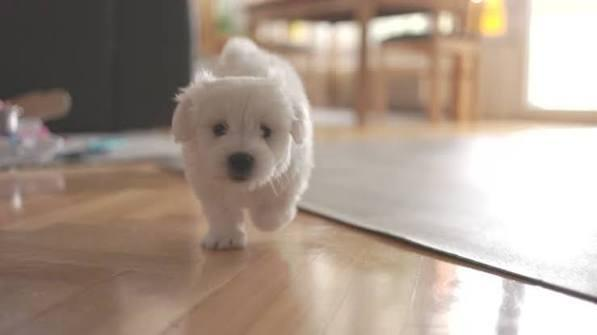puppy-dog: (168, 32, 318, 251)
